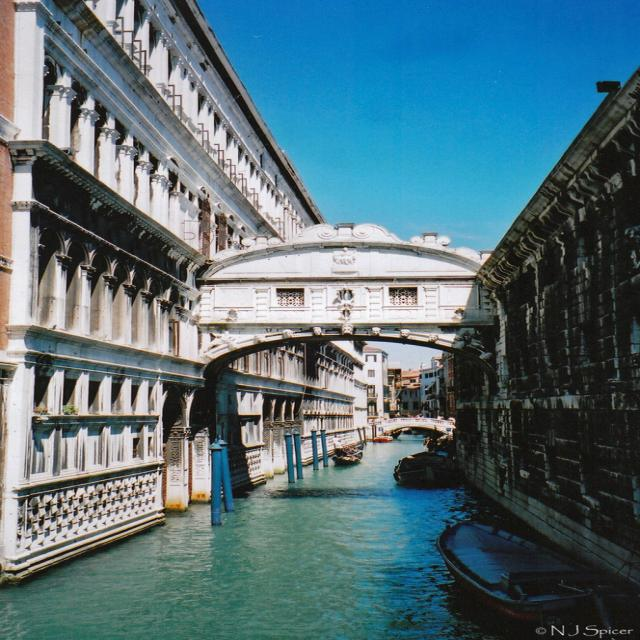Boat: (440, 506, 624, 622), (388, 449, 460, 486), (330, 448, 366, 466), (372, 434, 393, 444)
